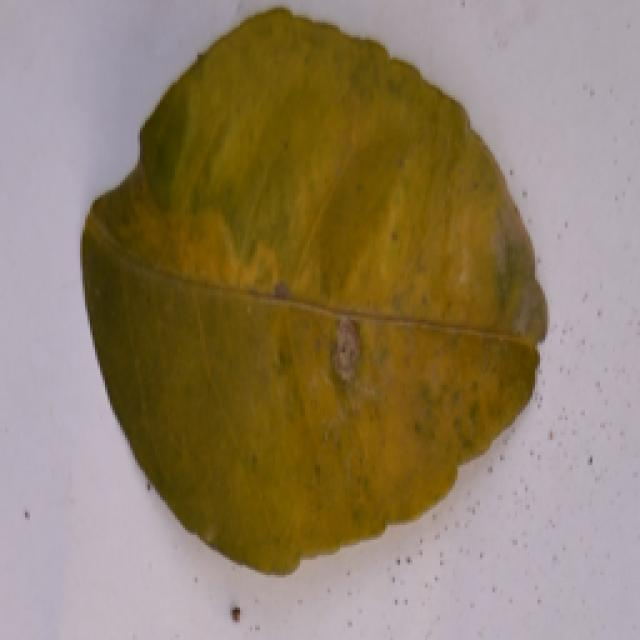canker: (94, 23, 556, 536)
